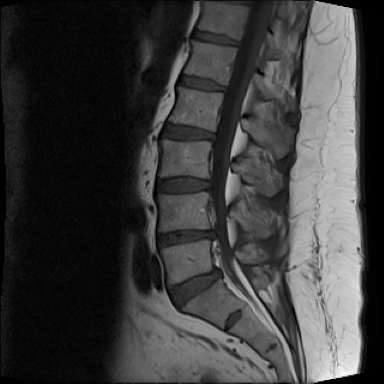Lumbar Disc Bulge (LDB): (222, 278, 280, 322), (224, 126, 289, 154)
Normal IVD: (211, 232, 272, 260), (216, 178, 276, 203), (238, 77, 294, 100), (247, 30, 298, 51)
Spinal Stenosis (SS): (272, 132, 293, 154), (263, 277, 275, 297)
